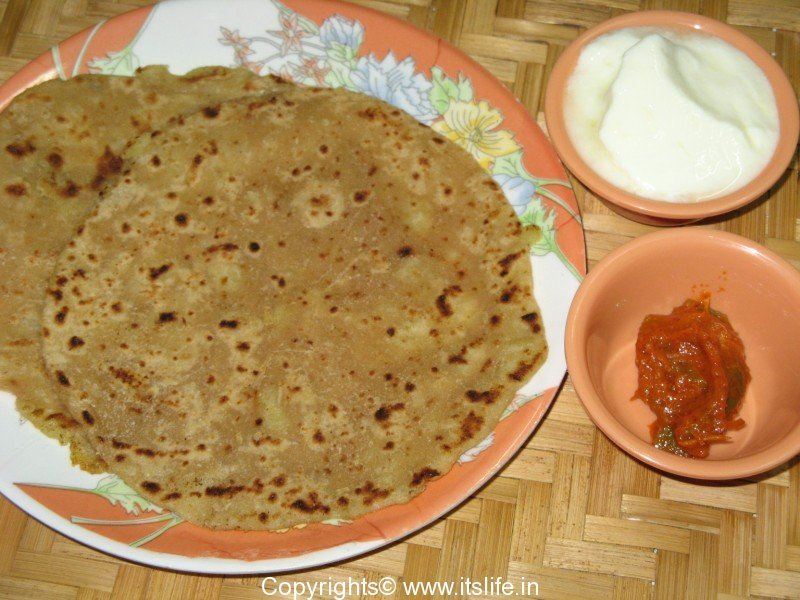aloo_paratha: (1, 67, 543, 534)
